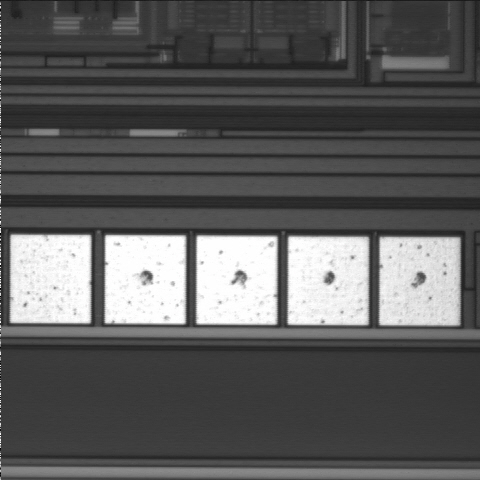pad: (105, 235, 186, 324), (196, 236, 277, 325), (288, 236, 369, 325), (10, 235, 91, 323), (379, 237, 460, 325)
